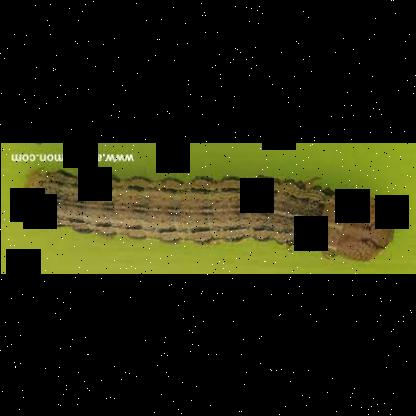oruga: (24, 172, 398, 264)
